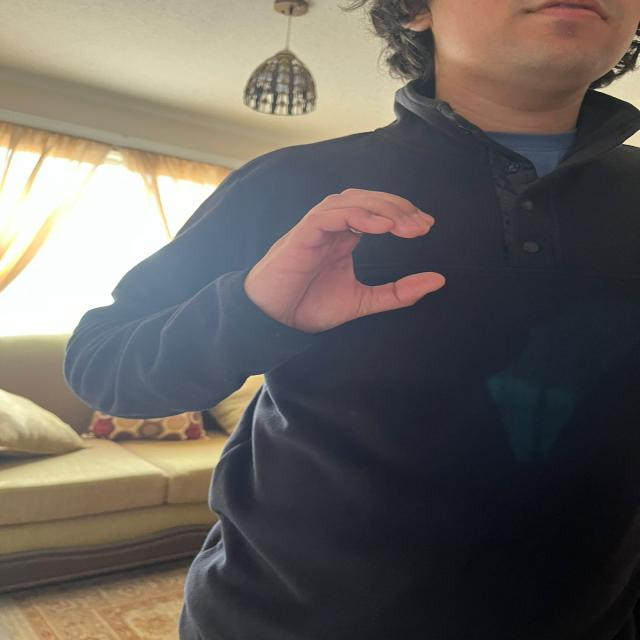C: (250, 179, 453, 327)
